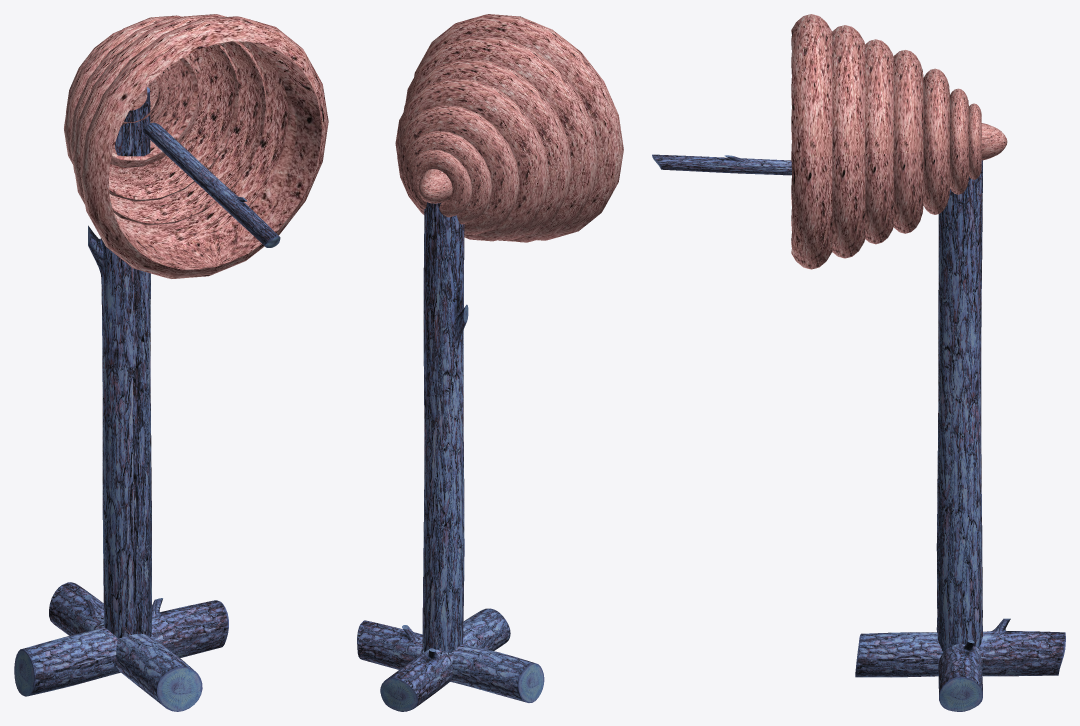
Rendered from telefono_picapiedras.obj.
3 views of the same model, side by side, from view 1: azimuth 30°, elevation 25°; view 2: azimuth 150°, elevation 25°; view 3: azimuth 270°, elevation 25° (orthographic). The views are drawn at different scales.
Parts seen in each view (by area): view 1: low_poly_log3:low_poly_log; view 2: low_poly_log3:low_poly_log; view 3: low_poly_log3:low_poly_log.
Boxes of the visible parts, x1=… form: low_poly_log3:low_poly_log: x1=14, y1=14, x2=328, y2=711; low_poly_log3:low_poly_log: x1=357, y1=14, x2=623, y2=711; low_poly_log3:low_poly_log: x1=652, y1=14, x2=1065, y2=711.
Bounding box in the file's own units: 30.08 × 83.68 × 48.34.
Materials: 6 (6 with a texture image).
